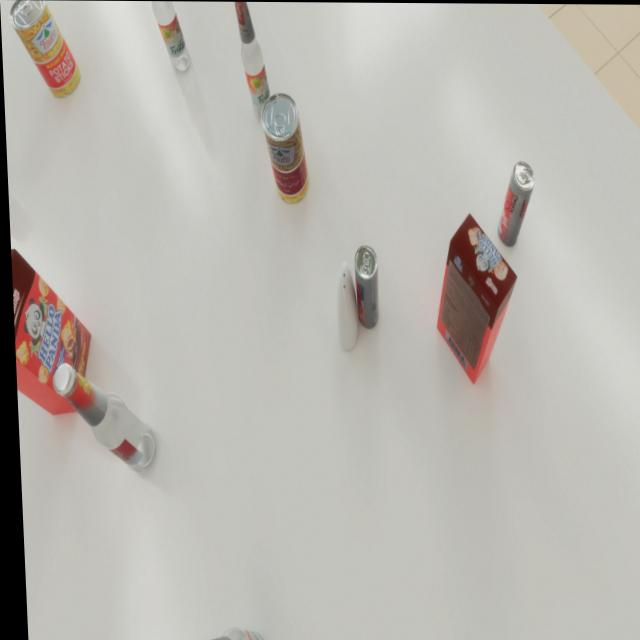Bottle: (49, 363, 153, 473), (232, 1, 273, 122), (137, 1, 190, 73)
HelloPanda: (430, 212, 518, 384)
Potato_sticks: (8, 0, 80, 97), (259, 92, 308, 204)
Rita_zero_sugar: (493, 160, 536, 247), (351, 244, 378, 328)
Salt: (331, 262, 356, 350)
